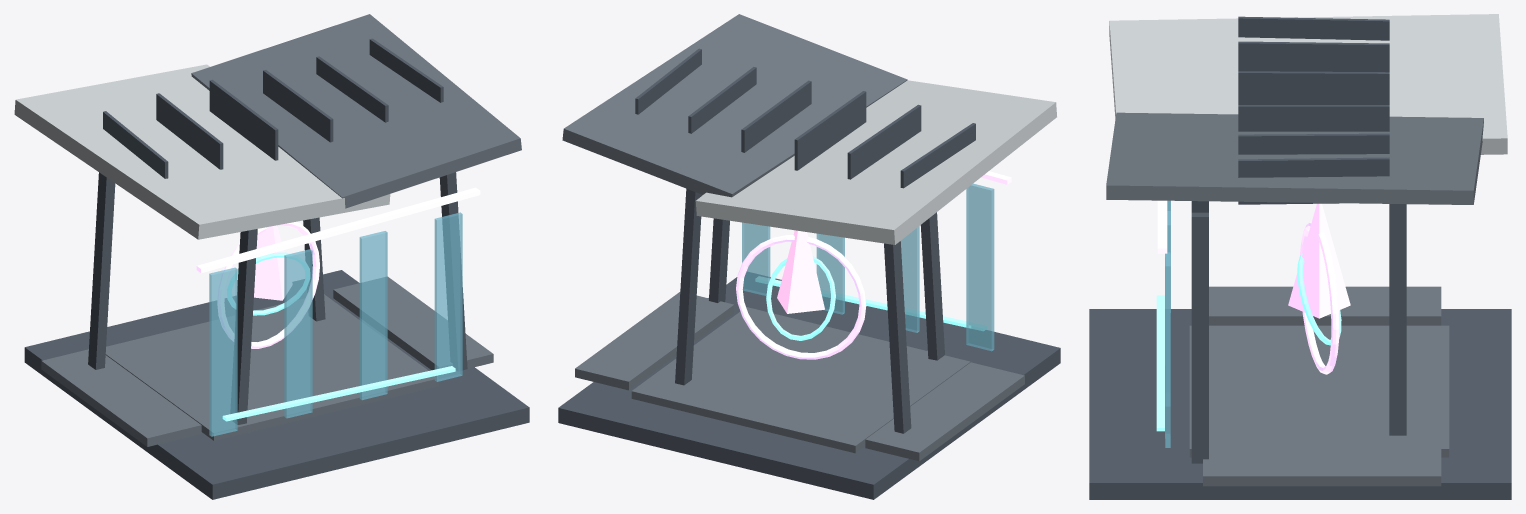
Rendered from design-pavilion-lod1.2ef6f1635329.glb.
3 renders of one model, left to right at view 1: azimuth 30°, elevation 25°; view 2: azimuth 150°, elevation 25°; view 3: azimuth 270°, elevation 25°, orthographic. The views are drawn at different scales.
Parts seen in each view (by area): view 1: roof_right, pavilion_base, roof_left, pavilion_stage, terrace_-1, terrace_1, glass_facade_0, glass_facade_3, glass_facade_1, glass_facade_2, cantilever_pillar_0, cantilever_pillar_3 (+13 smaller); view 2: roof_right, roof_left, pavilion_stage, pavilion_base, terrace_-1, terrace_1, glass_facade_0, cantilever_pillar_0, cantilever_pillar_2, design_orbit_outer, design_prism_core, cantilever_pillar_1 (+12 smaller); view 3: pavilion_base, pavilion_stage, roof_left, roof_right, terrace_1, terrace_-1, roof_fin_2, roof_fin_1, cantilever_pillar_3, cantilever_pillar_2, roof_fin_3, roof_fin_0 (+9 smaller).
Boxes of the visible parts, x1,y1,x2,y2 form: roof_right: (191,14,521,208); pavilion_base: (24,270,529,499); roof_left: (14,64,390,239); pavilion_stage: (105,294,438,440); terrace_-1: (41,349,201,446); terrace_1: (333,276,493,375); glass_facade_0: (209,267,237,436); glass_facade_3: (434,212,462,381); glass_facade_1: (284,249,312,418); glass_facade_2: (359,231,387,400); cantilever_pillar_0: (88,172,115,369); cantilever_pillar_3: (439,172,467,371); roof_right: (562,14,907,197); roof_left: (695,80,1056,244); pavilion_stage: (631,307,970,453); pavilion_base: (558,272,1060,499); terrace_-1: (865,362,1024,461); terrace_1: (575,292,734,390); glass_facade_0: (966,183,994,351); cantilever_pillar_0: (884,241,911,433); cantilever_pillar_2: (675,188,702,385); design_orbit_outer: (736,235,866,359); design_prism_core: (777,230,824,313); cantilever_pillar_1: (920,212,944,360); pavilion_base: (1089,309,1511,499); pavilion_stage: (1189,325,1449,457); roof_left: (1109,14,1507,154); roof_right: (1106,112,1483,204); terrace_1: (1203,446,1441,486); terrace_-1: (1209,286,1441,325); roof_fin_2: (1238,71,1389,104); roof_fin_1: (1238,41,1389,72); cantilever_pillar_3: (1191,212,1208,463); cantilever_pillar_2: (1389,204,1406,435); roof_fin_3: (1238,105,1389,131); roof_fin_0: (1238,16,1389,40).
Bounding box in the file's own units: 8.33 × 6.69 × 7.8.
